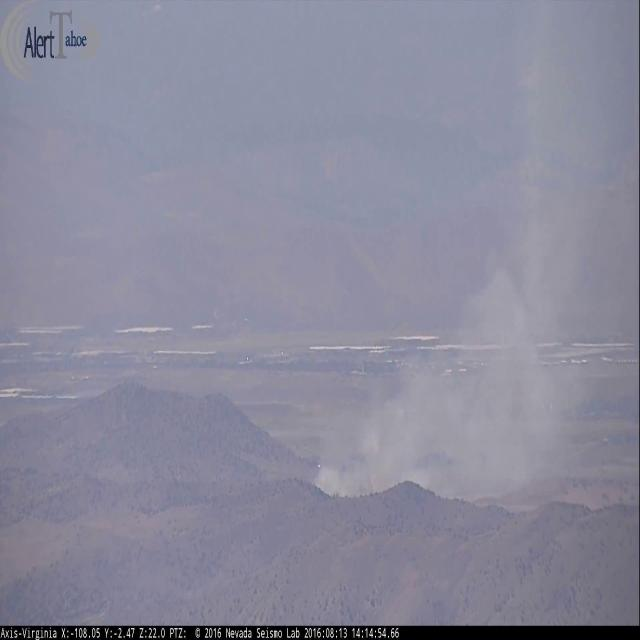smoke: (313, 0, 640, 504)
